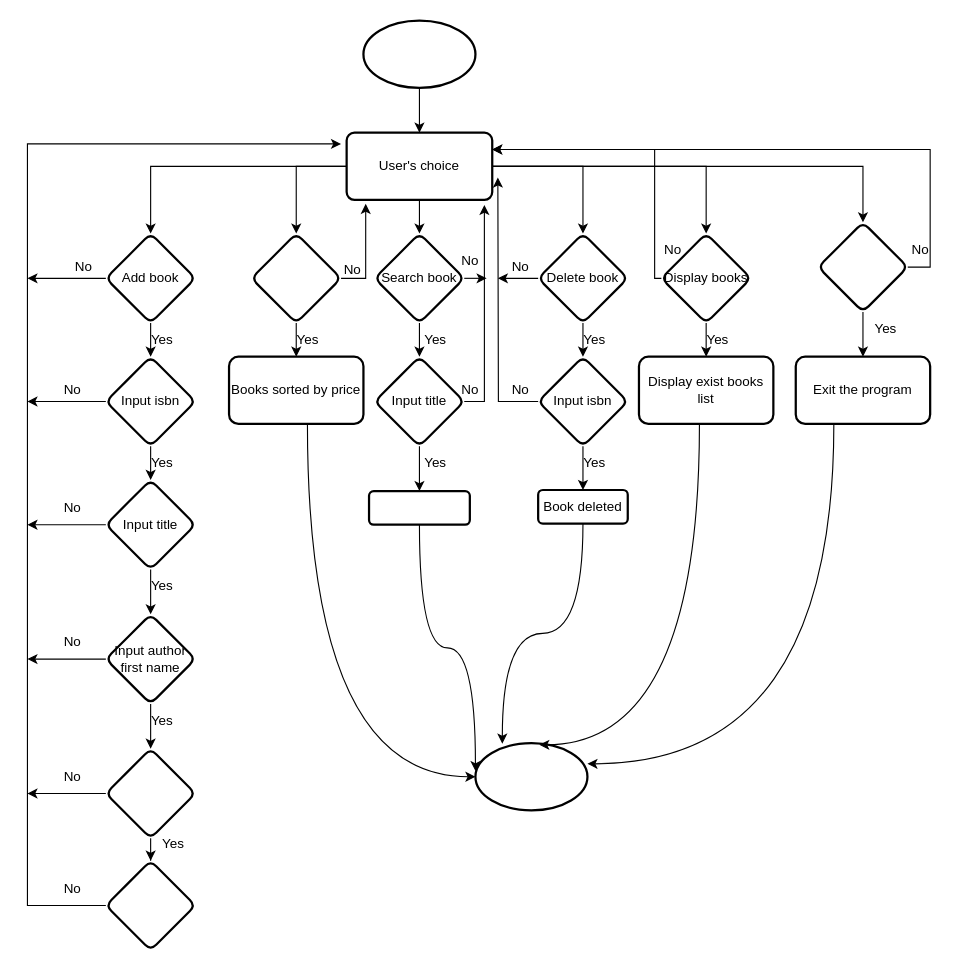
Some shapes in this 962 by 970 pixel diagram are drawn without their labels. The shapes that lost their labels are listed below. From the top down, each one's centre as x and y in pixels, then its label:
point 419,53: Start
point 296,278: Sort book
point 862,266: Exit
point 418,507: Book found
point 150,793: Input author last name
point 531,776: End
point 150,905: Input price
